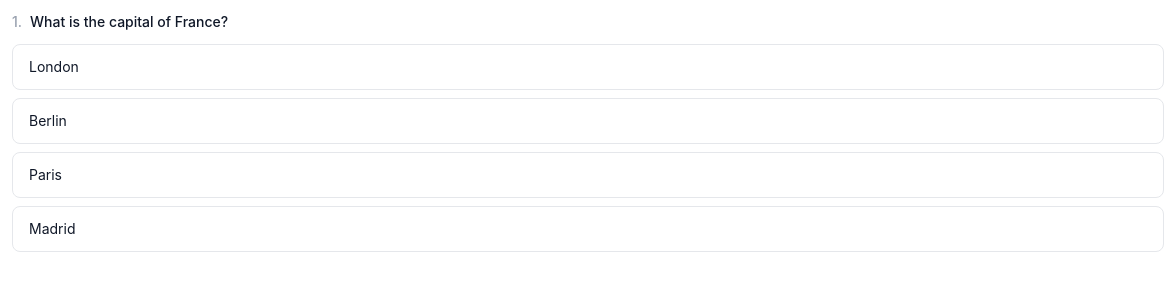
Scenario: QuizMultipleChoice › shows "Correct!" feedback after selecting the right answer
This screenshot has width=1176, height=296.
Click the button "Paris" at (46, 174), box [12,152,1164,198]
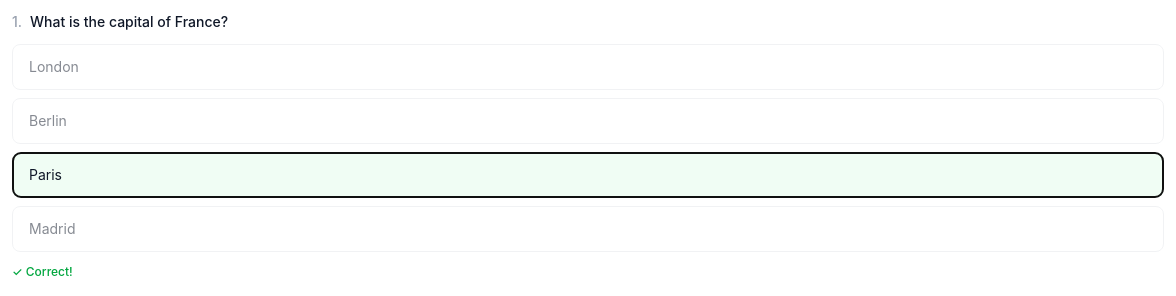
Result: the text "✓ Correct!" is shown at [12,264,73,279]
